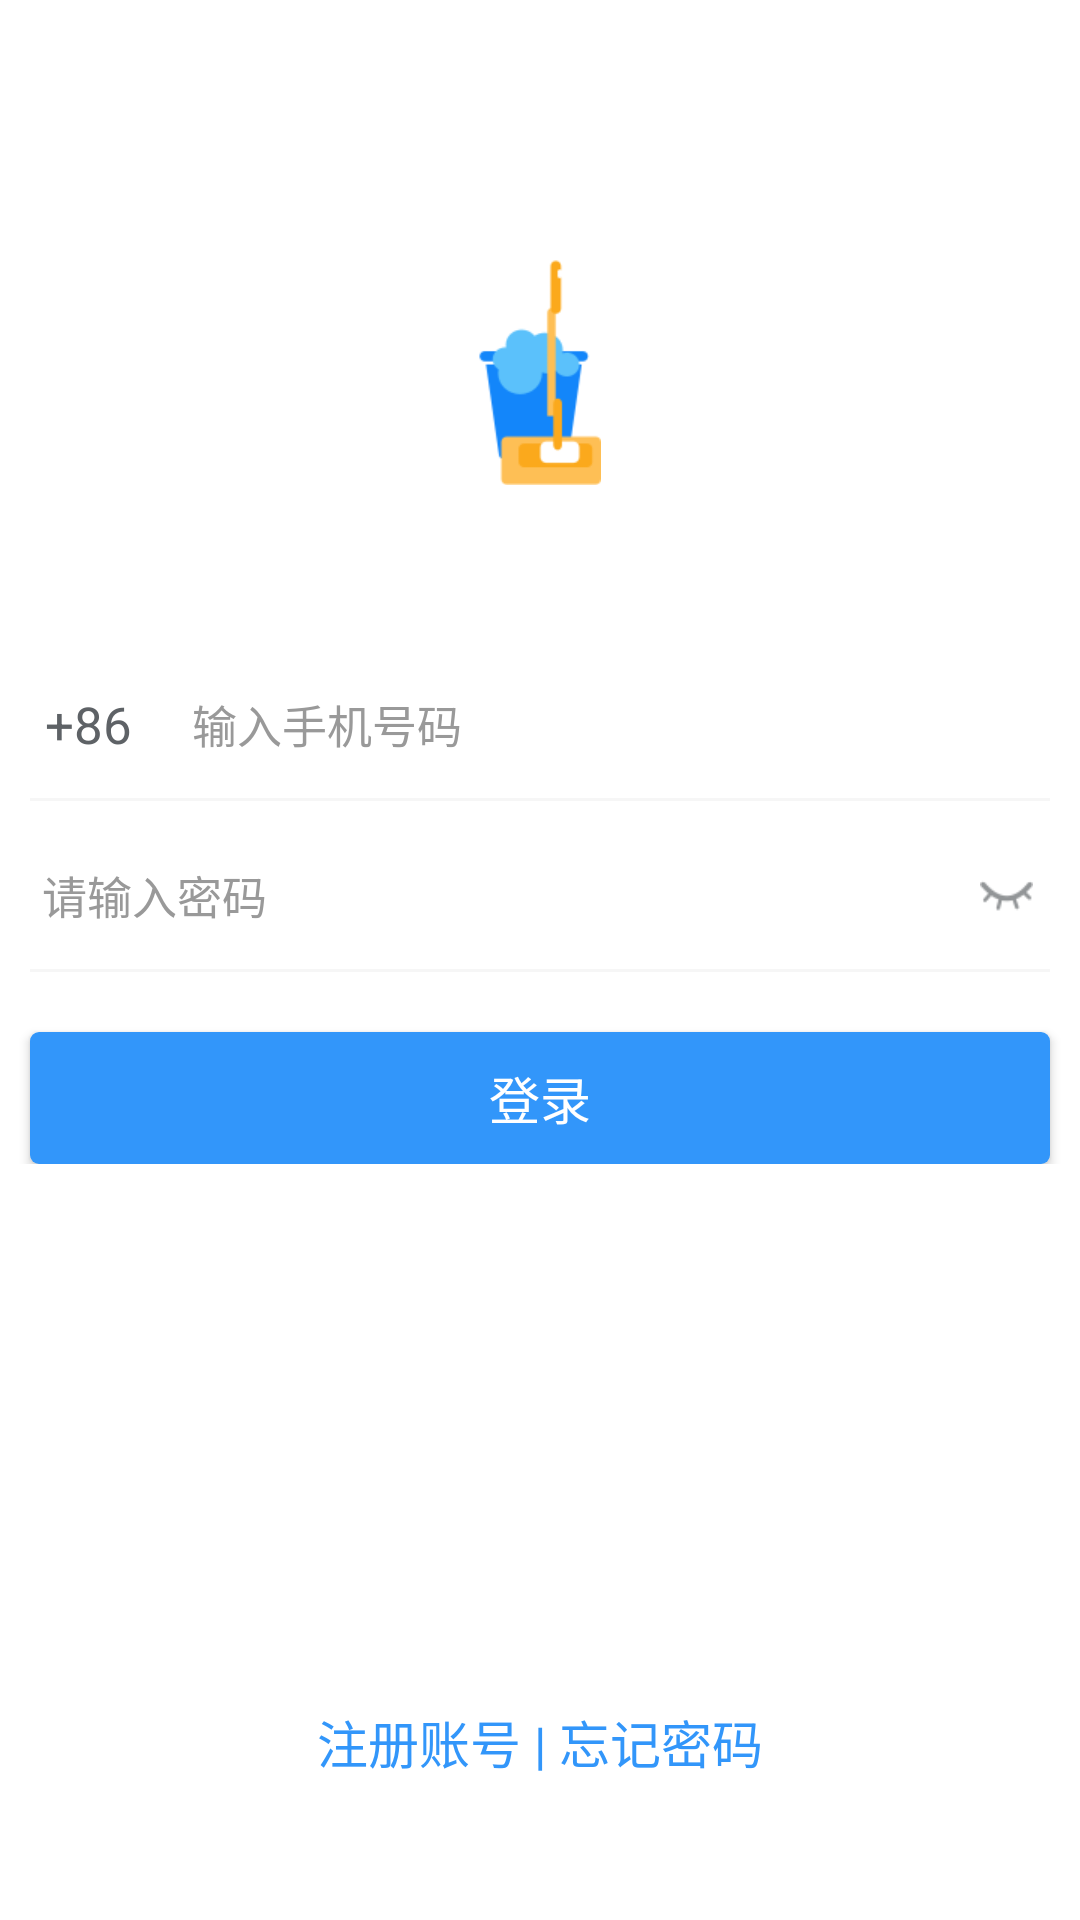

Icons on this 1080w x 1920h Android screen, each with the point to tap as (x,y):
bukejian: (1006,896)
